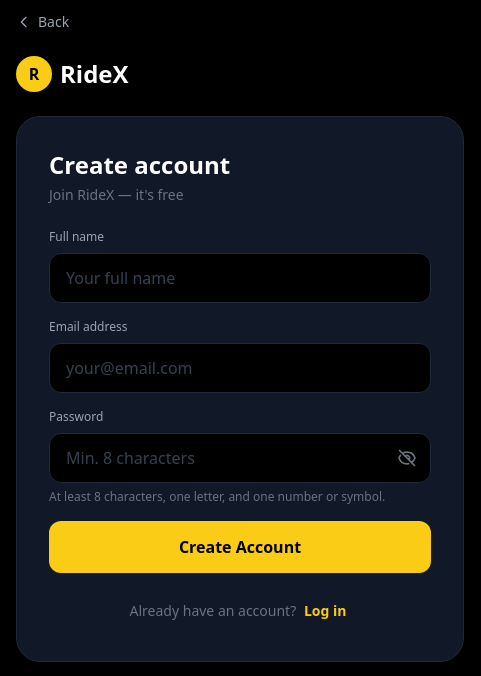
Register page › shows duplicate email error from Firebase
This screenshot has width=481, height=676.
Type "Alice Smith" into the field with placeholder "Your full name".
click(240, 278); type("Alice Smith")  # box [49,253,431,303]
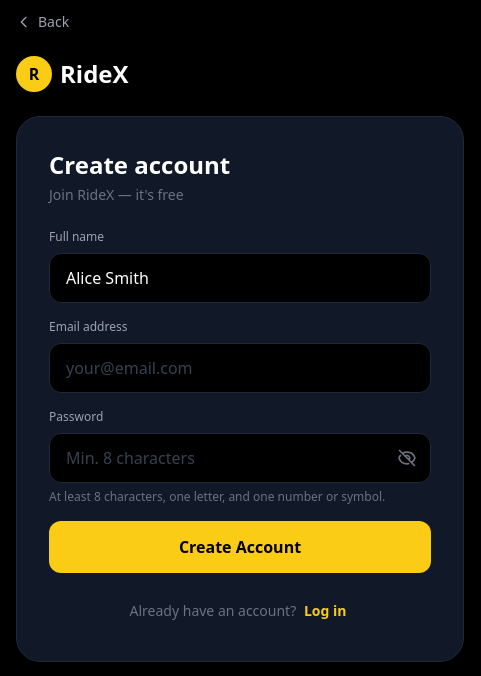
Type "a@b.com" into the field with placeholder "your@email.com".
click(240, 368); type("a@b.com")  # box [49,343,431,393]
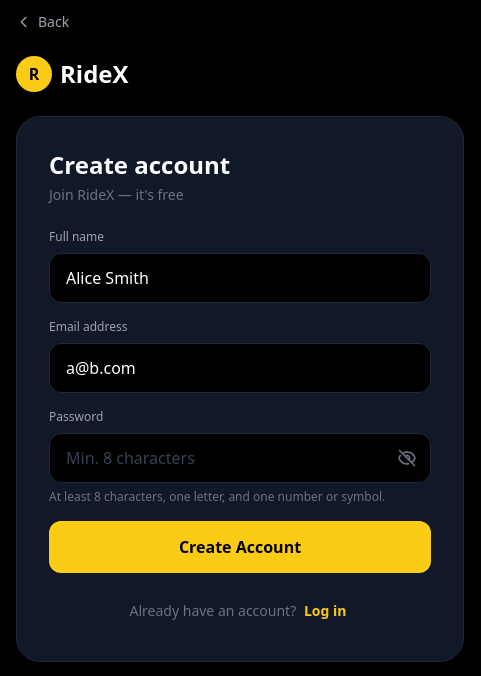
Type "Password1!" into the password field with placeholder "Min. 8 characters".
click(240, 458); type("Password1!")  # box [49,433,431,483]
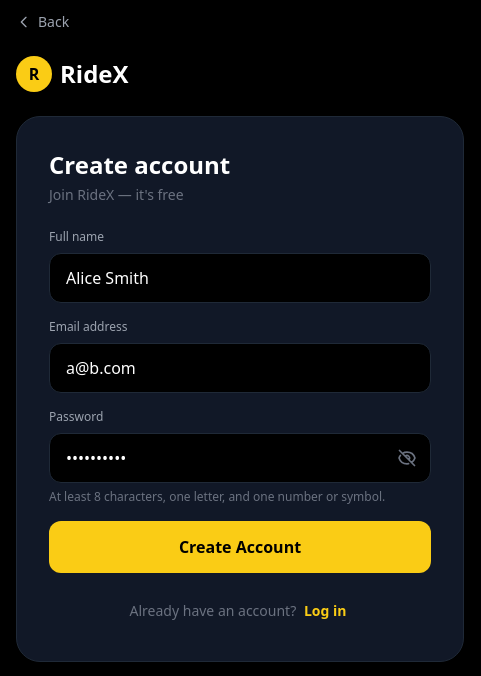
Click the button "Create Account".
click(240, 547)  # box [49,521,431,573]
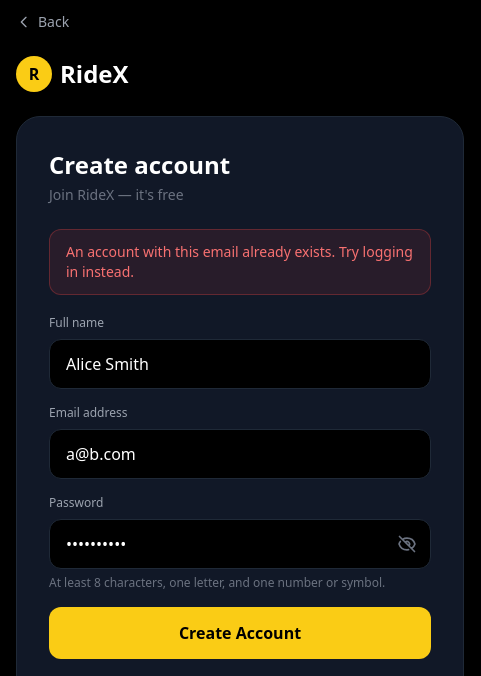
Expected: the text "already exists" is shown, [66,242,413,281]
